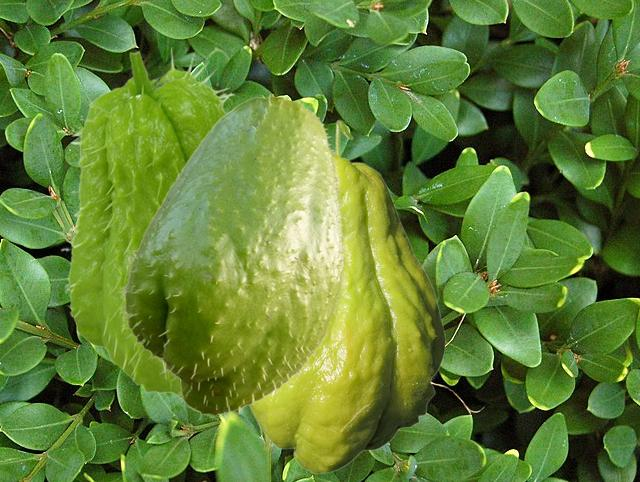sayote: (117, 94, 346, 419), (247, 119, 445, 473), (60, 46, 235, 400)
